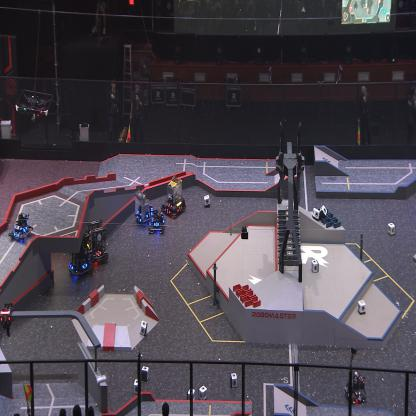car: (67, 228, 95, 279), (161, 175, 187, 218), (86, 218, 108, 266), (134, 184, 156, 225), (344, 370, 367, 403), (8, 210, 32, 239), (148, 206, 166, 233)
